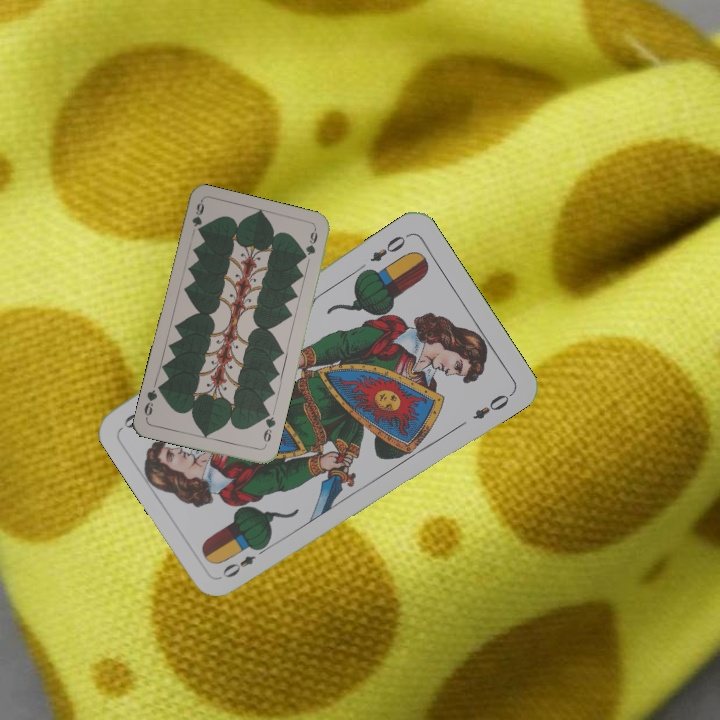EO: (218, 541, 271, 581), (366, 229, 412, 265)
G9: (259, 409, 278, 450), (188, 198, 207, 236)
